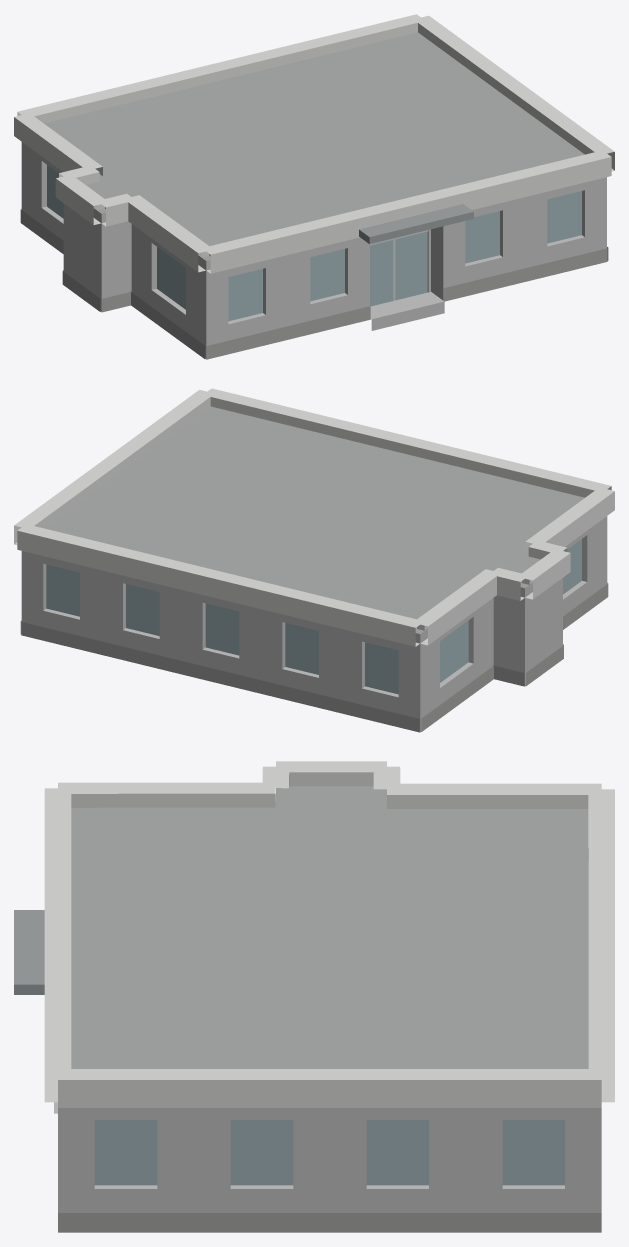
3 views of the same model, one above another, from view 1: azimuth 30°, elevation 25°; view 2: azimuth 150°, elevation 25°; view 3: azimuth 270°, elevation 25° (orthographic). The views are drawn at different scales.
Parts seen in each view (by area): view 1: b981579179__roof, b981579179__trim, b981579179__wall, b981579179__glass, b981579179__base, b981579179__canopy, b981579179__entranceThreshold_0; view 2: b981579179__roof, b981579179__wall, b981579179__trim, b981579179__glass, b981579179__base; view 3: b981579179__roof, b981579179__trim, b981579179__wall, b981579179__glass, b981579179__base, b981579179__canopy.
Boxes of the visible parts, x1,y1,x2,y2 form: b981579179__roof: [44, 32, 584, 359]; b981579179__trim: [14, 14, 614, 273]; b981579179__wall: [21, 142, 606, 359]; b981579179__glass: [47, 165, 581, 321]; b981579179__base: [20, 209, 608, 359]; b981579179__canopy: [359, 204, 473, 244]; b981579179__entranceThreshold_0: [370, 292, 444, 330]; b981579179__roof: [44, 406, 584, 732]; b981579179__wall: [21, 516, 607, 731]; b981579179__trim: [14, 388, 614, 646]; b981579179__glass: [46, 539, 581, 694]; b981579179__base: [20, 583, 608, 732]; b981579179__roof: [71, 786, 588, 1068]; b981579179__trim: [44, 761, 614, 1107]; b981579179__wall: [58, 1108, 601, 1212]; b981579179__glass: [94, 1120, 564, 1185]; b981579179__base: [58, 1213, 601, 1232]; b981579179__canopy: [14, 910, 44, 994].
Bounding box in the file's own units: 17.14 × 4.35 × 13.65.
